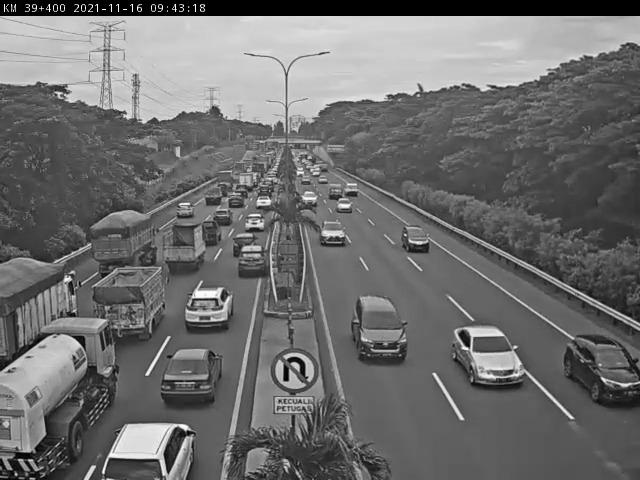car: (565, 329, 640, 410), (100, 421, 197, 480), (453, 322, 528, 391), (349, 293, 408, 363), (160, 347, 224, 403), (188, 287, 232, 339), (237, 245, 268, 276), (400, 224, 431, 252), (197, 221, 221, 248), (321, 218, 345, 243), (233, 233, 258, 254), (243, 212, 265, 230), (213, 208, 233, 225), (176, 202, 194, 217), (336, 197, 353, 212)
truck-l-: (0, 257, 84, 375), (90, 209, 161, 286)
truck-m-: (0, 318, 115, 478), (99, 261, 166, 334), (162, 225, 204, 271)
